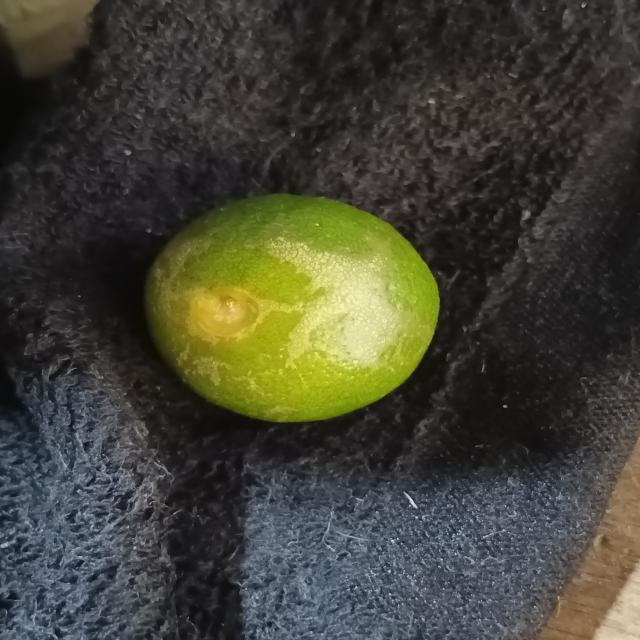thrips: (138, 196, 448, 424)
